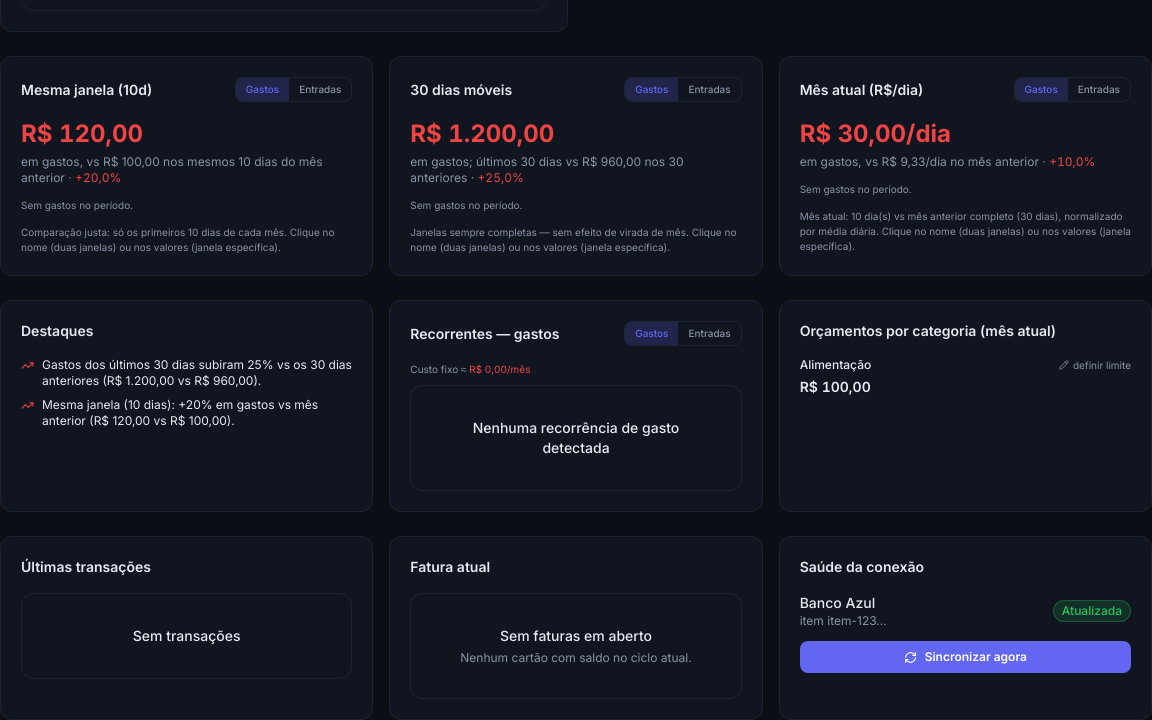
Test case: OverviewPage › AC-009: define orçamento e persiste o limite com percentual
(page scrolled)
Click the button "definir limite" at (1095, 365), box [1059,358,1131,372]
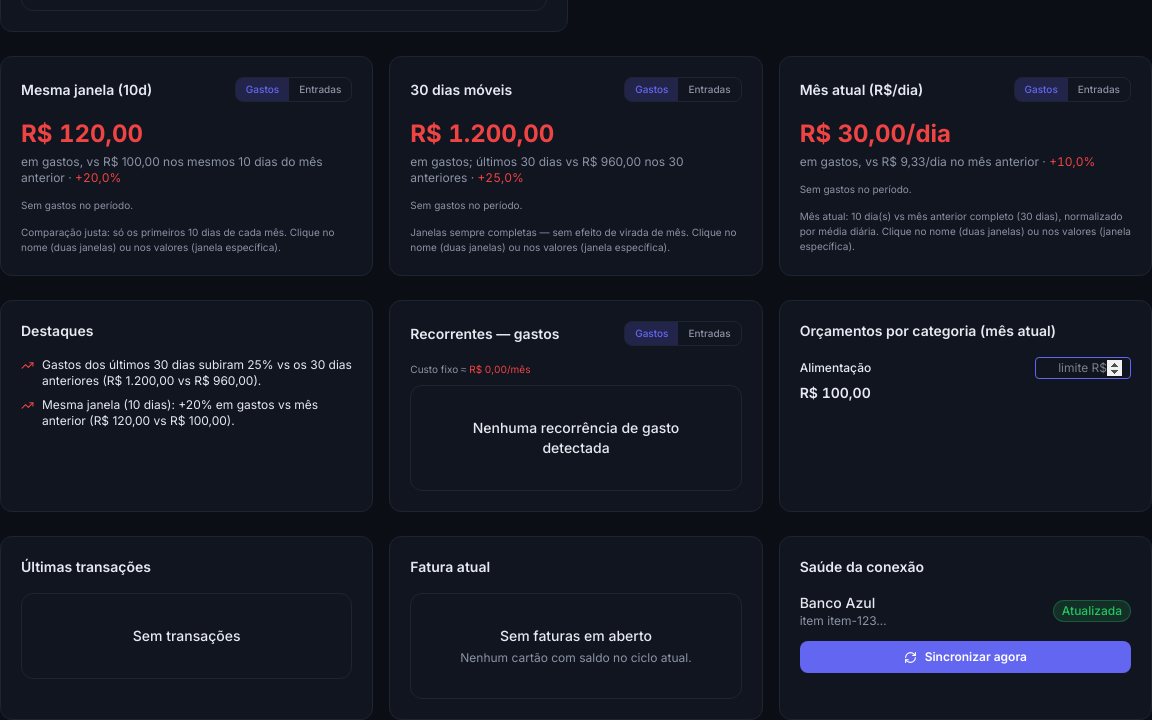
Type "500" into the number field with placeholder "limite R$" at (1083, 368), box [1035,357,1131,379]
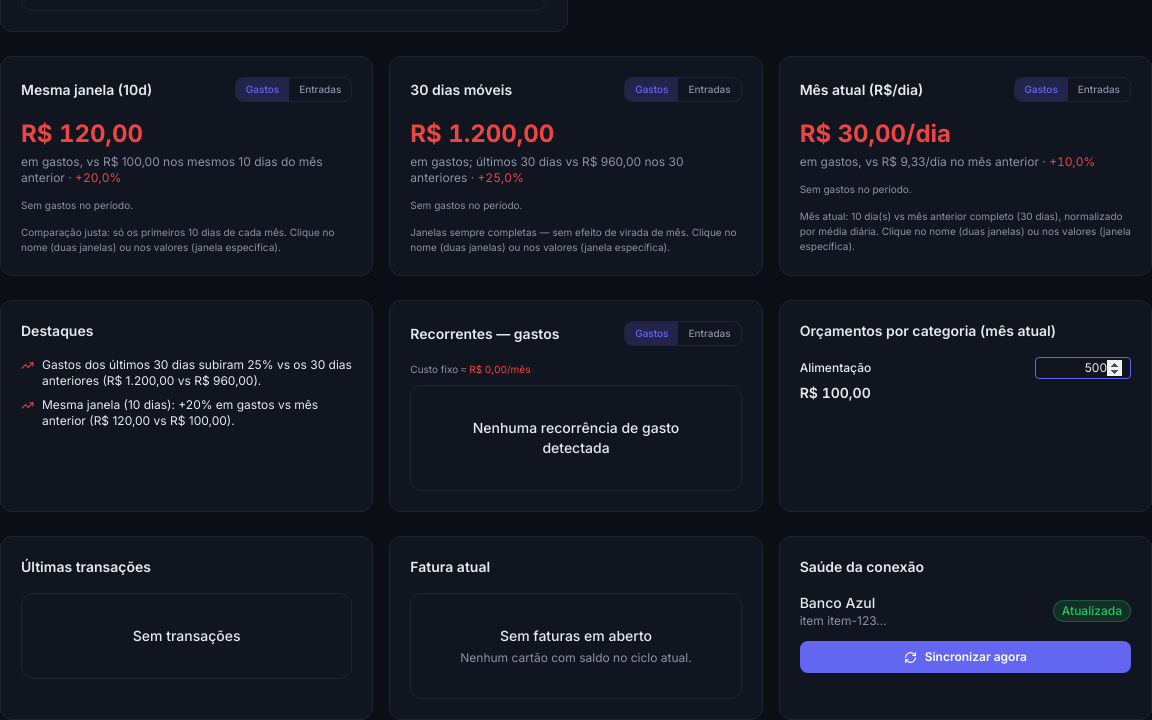
Leave the number field with placeholder "limite R$", box [1035,357,1131,379]
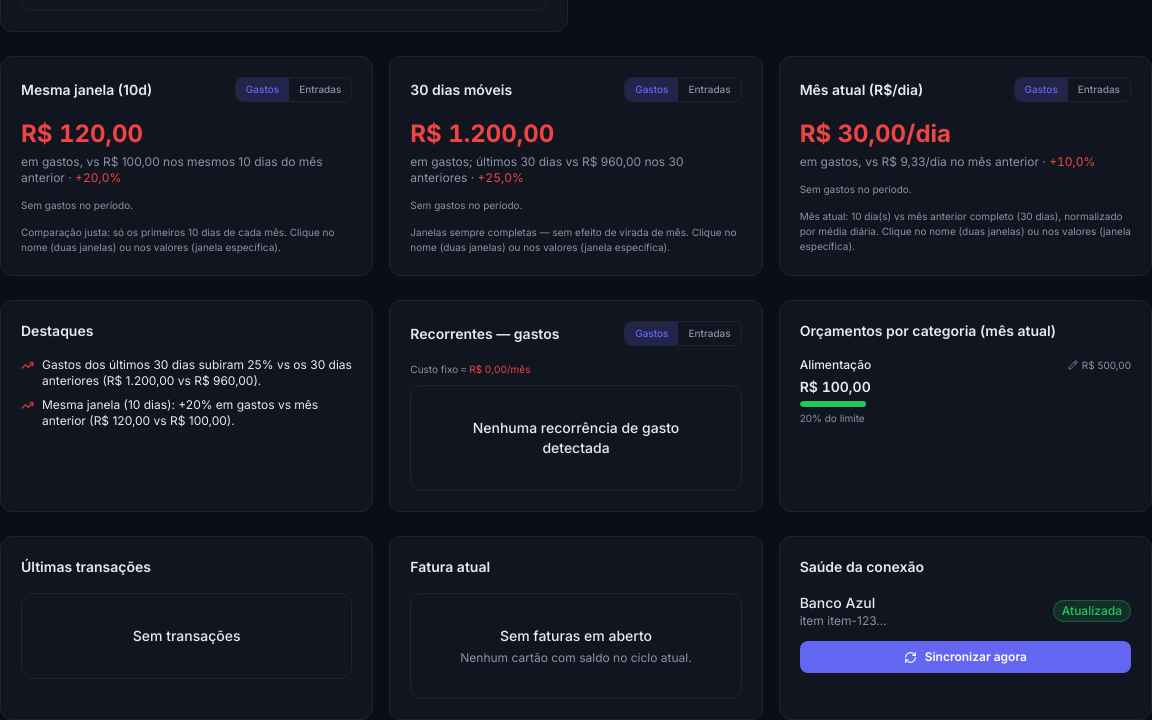
Check: the text "20% do limite" is shown, box [800,412,865,424]
